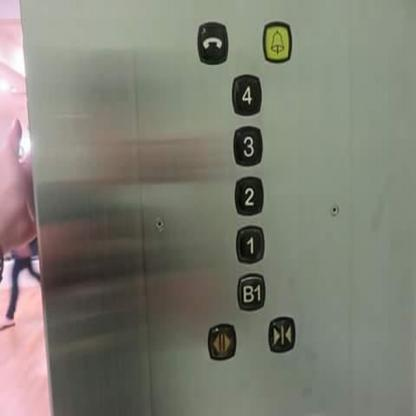1: (235, 223, 264, 264)
2: (234, 175, 264, 215)
3: (232, 124, 263, 165)
4: (230, 72, 262, 116)
B1: (236, 271, 266, 313)
alarm: (262, 20, 292, 63)
call: (196, 21, 228, 66)
close: (267, 314, 296, 352)
open: (207, 322, 236, 360)
